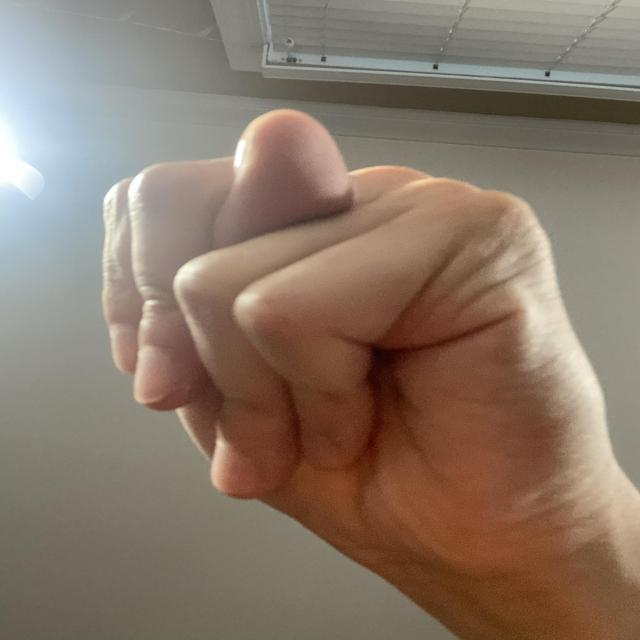N: (86, 103, 640, 626)
